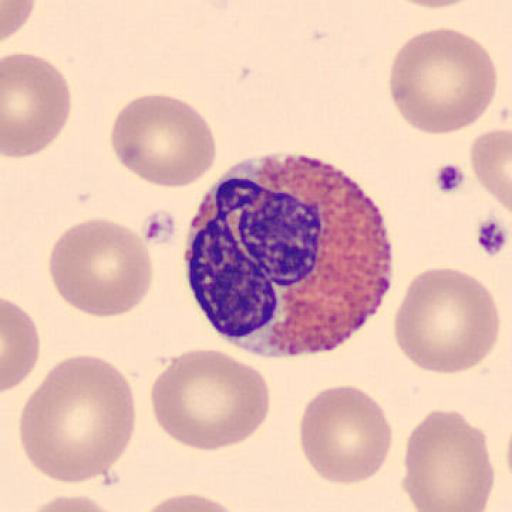RBC: (18, 352, 137, 486), (149, 347, 272, 453), (387, 25, 499, 137), (393, 266, 502, 376), (47, 215, 154, 320), (109, 92, 218, 189), (401, 409, 496, 512), (299, 383, 394, 486), (2, 52, 72, 160), (2, 296, 42, 395), (469, 126, 512, 217), (133, 491, 252, 512), (20, 492, 126, 512), (0, 0, 36, 42), (388, 0, 480, 10)
WBC: (185, 155, 395, 358)
